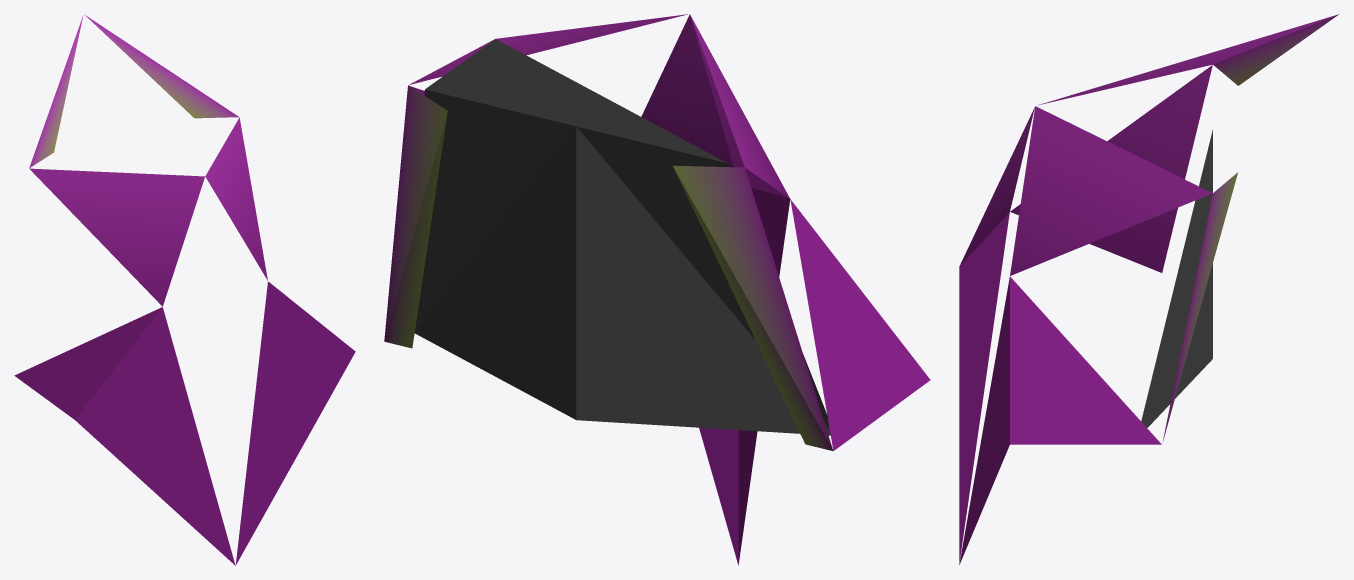
The model's file is enemy_head.gltf.
3 views of the same model, side by side, from view 1: azimuth 30°, elevation 25°; view 2: azimuth 150°, elevation 25°; view 3: azimuth 270°, elevation 25° (orthographic). The views are drawn at different scales.
Parts seen in each view (by area): view 1: enemy_head_mesh; view 2: enemy_head_mesh; view 3: enemy_head_mesh.
Part boxes in pixels (x1=…): enemy_head_mesh: x1=14, y1=15, x2=355, y2=565; enemy_head_mesh: x1=384, y1=14, x2=930, y2=565; enemy_head_mesh: x1=959, y1=14, x2=1338, y2=564.
Bounding box in the file's own units: 0.8 × 1.2 × 0.75.
